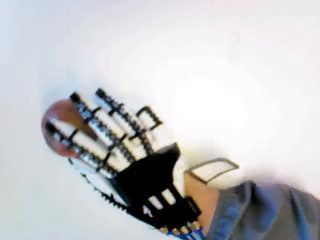apple: (41, 97, 100, 159)
hand: (45, 91, 204, 229)
